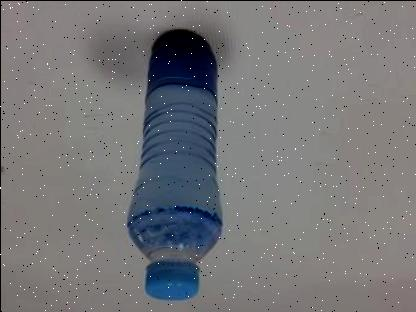Plastic Bottle: (126, 29, 220, 300)
